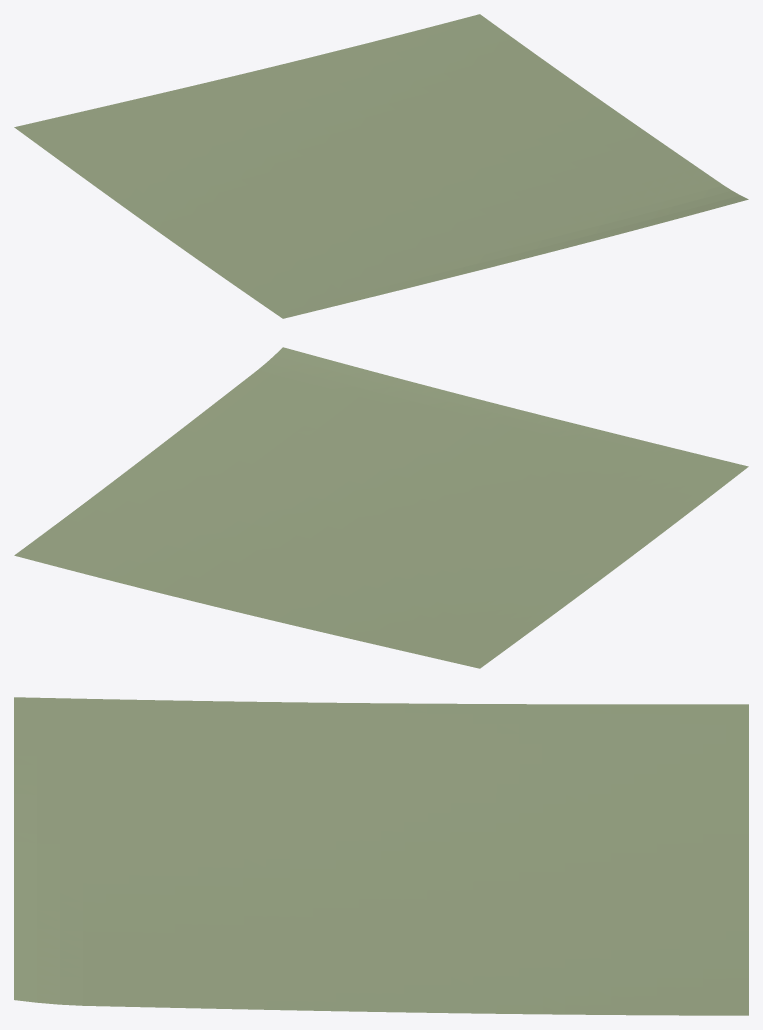
File: expanse-17-0.glb
3 renders of one model, top to bottom at view 1: azimuth 30°, elevation 25°; view 2: azimuth 150°, elevation 25°; view 3: azimuth 270°, elevation 25°, orthographic. The views are drawn at different scales.
Visible parts, largest first — view 1: expanse-17-0; view 2: expanse-17-0; view 3: expanse-17-0.
Boxes of the visible parts, x1=… form: expanse-17-0: x1=14, y1=14, x2=748, y2=318; expanse-17-0: x1=14, y1=347, x2=748, y2=668; expanse-17-0: x1=14, y1=697, x2=748, y2=1015.
Size of the model in its own units: 256 by 7.11 by 256.
